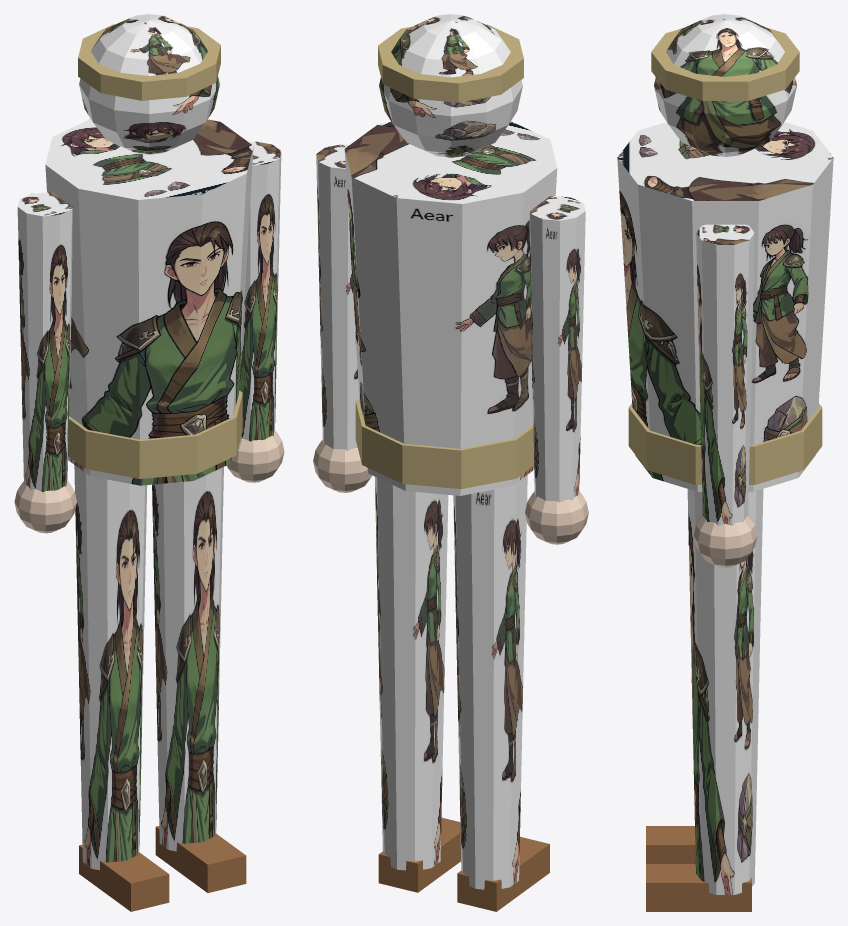
3 views of the same model, side by side, from view 1: azimuth 30°, elevation 25°; view 2: azimuth 150°, elevation 25°; view 3: azimuth 270°, elevation 25° (orthographic). The views are drawn at different scales.
Parts seen in each view (by area): view 1: torso, thighR, thighL, armR, head, armL, belt, band, footL, footR, handR, handL; view 2: torso, thighR, thighL, armR, head, armL, belt, band, footR, footL, handR, handL; view 3: torso, thighL, armL, head, belt, band, footL, handL, footR.
Boxes of the visible parts, bbox=[...] form: torso: bbox=[45, 119, 253, 485]; thighR: bbox=[74, 465, 147, 870]; thighL: bbox=[152, 467, 223, 851]; armR: bbox=[17, 192, 72, 492]; head: bbox=[79, 14, 219, 154]; armL: bbox=[239, 141, 281, 441]; belt: bbox=[68, 390, 242, 478]; band: bbox=[78, 24, 220, 100]; footL: bbox=[155, 826, 246, 892]; footR: bbox=[79, 844, 169, 911]; handR: bbox=[14, 481, 76, 533]; handL: bbox=[226, 430, 284, 482]; torso: bbox=[344, 121, 557, 495]; thighR: bbox=[453, 475, 527, 889]; thighL: bbox=[375, 477, 448, 870]; armR: bbox=[529, 196, 585, 502]; head: bbox=[379, 14, 522, 157]; armL: bbox=[316, 144, 359, 450]; belt: bbox=[355, 398, 533, 488]; band: bbox=[378, 24, 523, 102]; footR: bbox=[457, 836, 549, 911]; footL: bbox=[378, 817, 460, 892]; handR: bbox=[525, 491, 588, 544]; handL: bbox=[313, 439, 372, 492]; torso: bbox=[617, 122, 833, 491]; thighL: bbox=[687, 489, 763, 894]; armL: bbox=[696, 224, 754, 525]; head: bbox=[654, 14, 796, 156]; belt: bbox=[628, 403, 822, 484]; band: bbox=[651, 28, 799, 100]; footL: bbox=[646, 864, 751, 911]; handL: bbox=[693, 515, 757, 567]; footR: bbox=[646, 826, 695, 863].
Bounding box in the file's own units: 0.579 × 1.79 × 0.408.
Materials: 4 (1 with a texture image).
